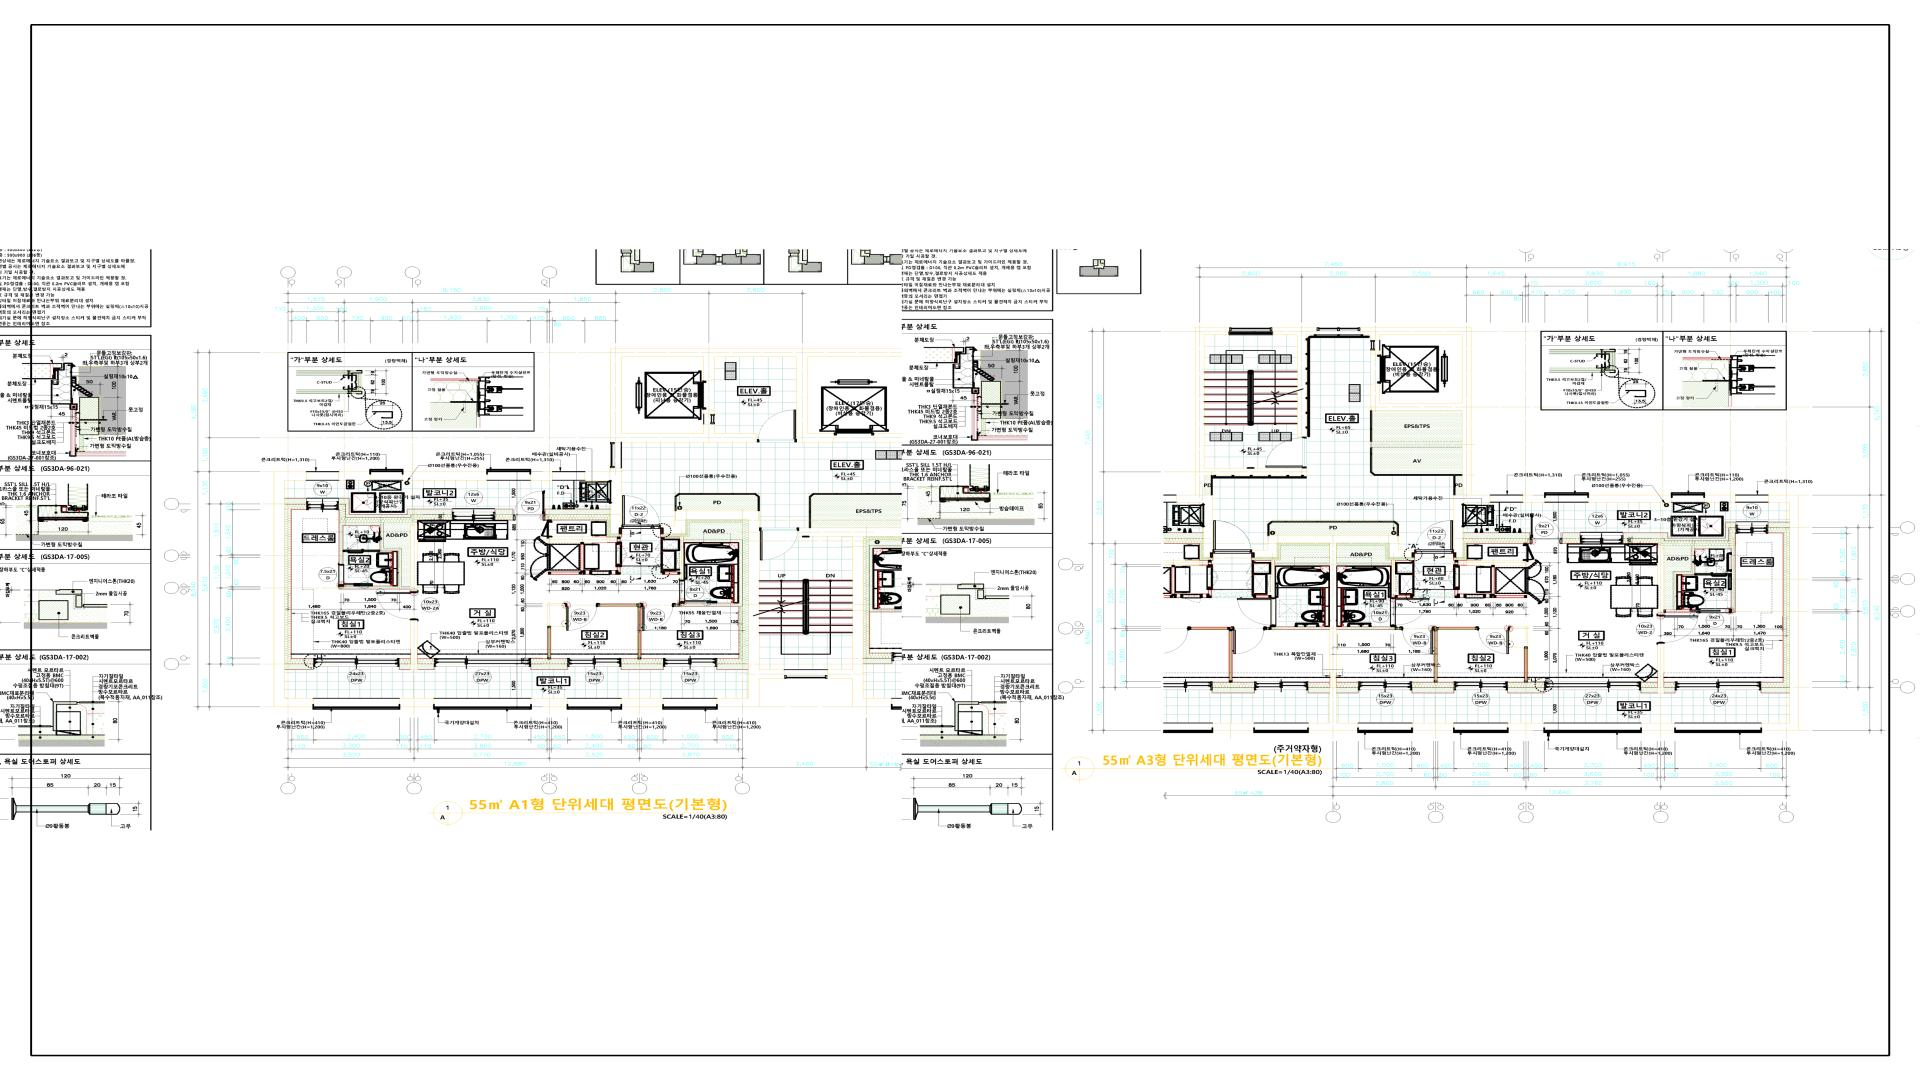door: (621, 495, 661, 534), (1415, 520, 1455, 558), (757, 410, 798, 443), (760, 527, 799, 560), (1266, 436, 1307, 468), (377, 589, 418, 620), (1656, 615, 1698, 644), (1390, 599, 1429, 625), (641, 603, 676, 632), (1530, 514, 1563, 545), (679, 579, 717, 604), (1477, 626, 1510, 655), (1399, 626, 1433, 654), (566, 603, 600, 630), (513, 491, 546, 516), (338, 564, 373, 587), (344, 538, 369, 554), (1664, 608, 1731, 613), (1706, 560, 1729, 575), (616, 543, 628, 567), (589, 570, 612, 580), (541, 520, 553, 539), (1523, 543, 1535, 562), (1464, 593, 1486, 603)
wall: (611, 348, 902, 442), (661, 510, 785, 707), (274, 472, 371, 707), (1705, 495, 1799, 731), (1195, 327, 1307, 495), (1361, 327, 1472, 495), (1333, 535, 1414, 731), (799, 527, 866, 707), (530, 468, 621, 534), (1455, 495, 1544, 558), (339, 522, 410, 589), (1274, 327, 1317, 436), (680, 539, 742, 607), (1673, 546, 1735, 612), (1433, 626, 1477, 682), (599, 603, 641, 659), (339, 498, 452, 517), (1623, 522, 1735, 541), (1486, 566, 1527, 599), (549, 542, 589, 575), (1588, 495, 1672, 502), (402, 472, 487, 480), (410, 525, 418, 591), (549, 537, 617, 543), (1658, 547, 1664, 615), (410, 620, 418, 670), (1455, 560, 1527, 566), (1462, 533, 1530, 538), (545, 509, 611, 514), (621, 699, 663, 707), (1412, 723, 1453, 731), (1658, 644, 1664, 692), (1507, 723, 1544, 731), (531, 699, 567, 707), (621, 663, 663, 670), (400, 699, 434, 707), (1642, 723, 1675, 731), (873, 434, 902, 442), (1412, 687, 1453, 692), (1507, 687, 1544, 692), (285, 663, 314, 670), (531, 665, 567, 670), (1762, 687, 1789, 694), (679, 537, 683, 580), (717, 665, 749, 670), (1336, 628, 1395, 630), (1524, 646, 1528, 683), (1391, 560, 1395, 597), (547, 626, 551, 659), (1337, 687, 1358, 692), (1768, 522, 1789, 527), (285, 498, 306, 504), (1640, 687, 1658, 692), (1563, 533, 1580, 538), (496, 509, 513, 514), (1455, 589, 1464, 599), (418, 665, 434, 670), (612, 567, 621, 575), (662, 571, 680, 575), (1395, 595, 1414, 599), (1664, 687, 1675, 692), (704, 409, 715, 414), (400, 665, 410, 670), (1370, 351, 1379, 355), (369, 550, 380, 553), (617, 537, 621, 542), (1695, 574, 1706, 575)
window: (433, 698, 531, 709), (313, 698, 401, 709), (1544, 723, 1642, 733), (1675, 723, 1762, 733), (434, 658, 531, 667), (1544, 682, 1642, 691), (1675, 682, 1762, 691), (314, 658, 400, 667), (567, 698, 622, 709), (662, 698, 717, 709), (1357, 723, 1414, 733), (1453, 723, 1509, 733), (1580, 531, 1623, 545), (487, 469, 531, 481), (452, 508, 496, 520), (1453, 682, 1509, 691), (567, 658, 621, 667), (663, 658, 717, 667), (1358, 682, 1412, 691), (1544, 492, 1589, 502), (1735, 521, 1768, 534), (369, 469, 404, 481), (785, 670, 828, 679), (306, 498, 339, 510), (1228, 327, 1274, 335), (1317, 327, 1361, 335), (1672, 492, 1704, 502), (611, 442, 622, 468), (703, 414, 715, 425), (1370, 340, 1381, 351)
